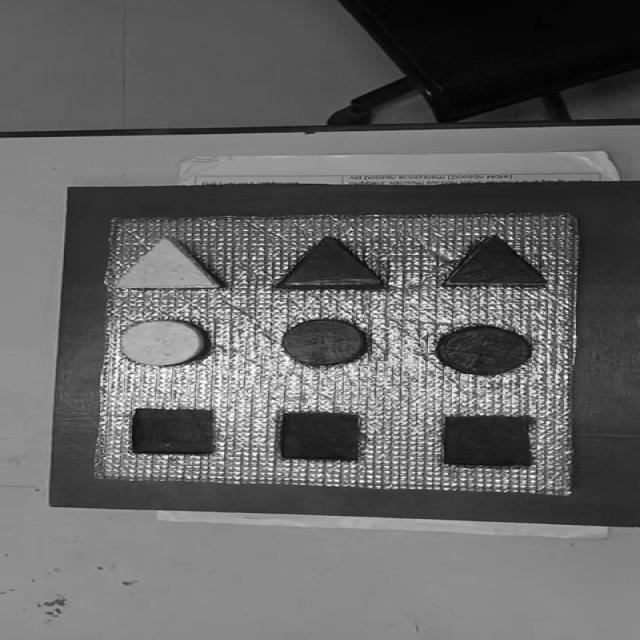bcircle: (433, 325, 535, 376)
btriangle: (441, 234, 549, 288)
mtcube: (439, 414, 533, 467), (128, 407, 214, 456), (278, 411, 362, 461)
rcircle: (280, 316, 374, 370)
rtriangle: (274, 237, 386, 290)
wb: (91, 212, 585, 495)
ycircle: (116, 316, 215, 370)
ytriangle: (114, 236, 223, 290)
